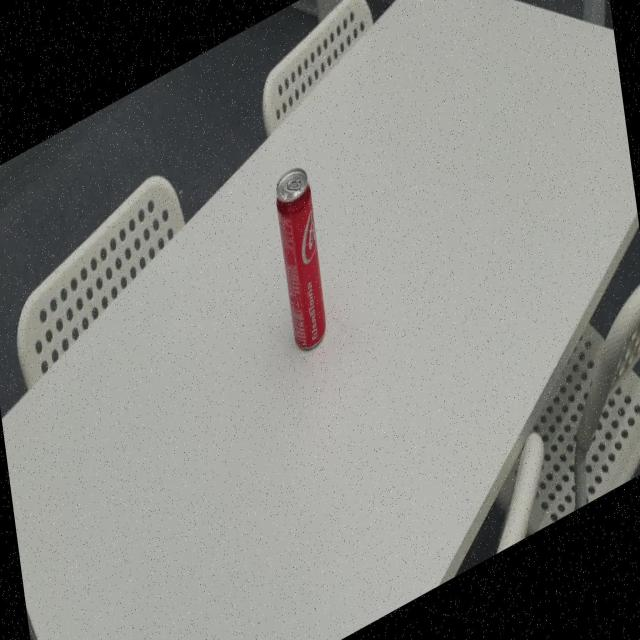coca-cola: (273, 157, 331, 365)
